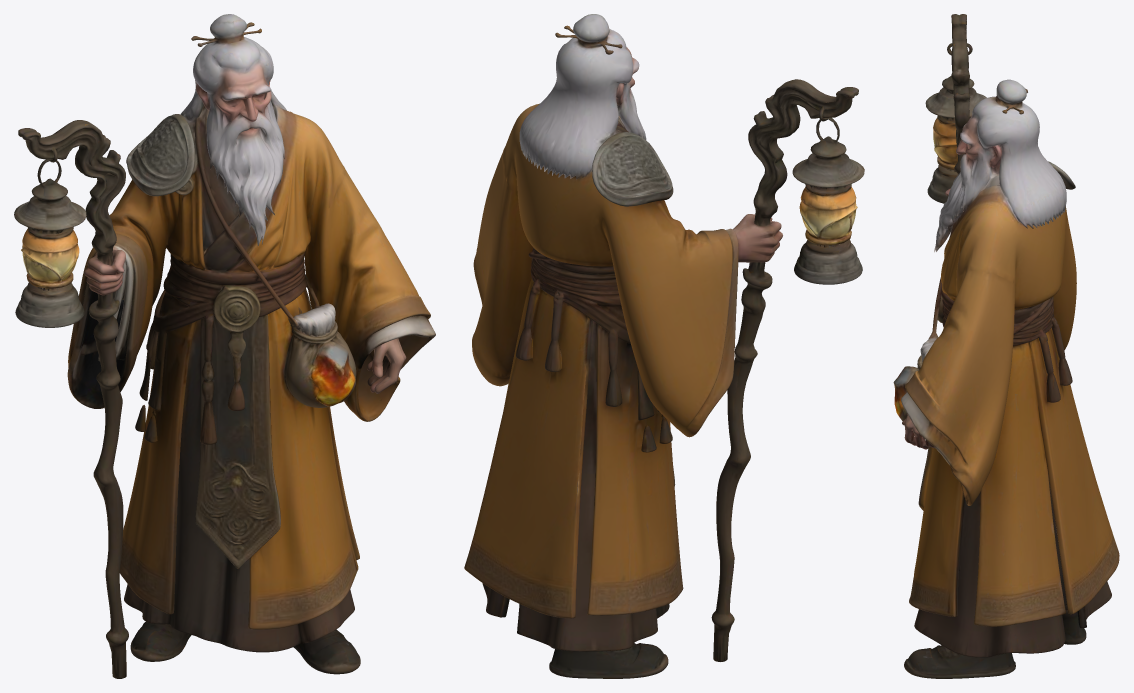
File: np_lamp.glb
The picture shows the model from 3 angles, left to right: view 1: azimuth 30°, elevation 25°; view 2: azimuth 150°, elevation 25°; view 3: azimuth 270°, elevation 25°; orthographic projection. The views are drawn at different scales.
Visible parts, largest first — view 1: node_0; view 2: node_0; view 3: node_0.
Part boxes in pixels (<box>): node_0: <box>14,14,435,678</box>; node_0: <box>464,14,864,678</box>; node_0: <box>893,14,1119,678</box>.
Bounding box in the file's own units: 0.7164 × 1.08 × 0.3943.
Materials: 1 (1 with a texture image).
